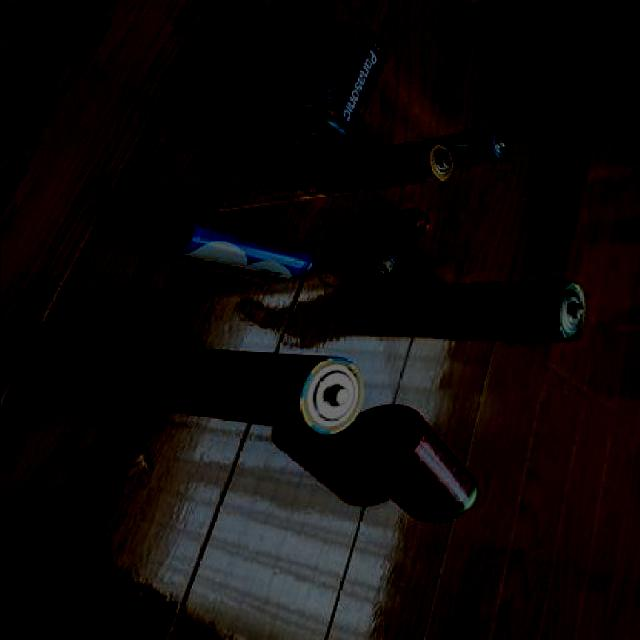AA: (149, 212, 317, 288), (298, 143, 452, 199)
